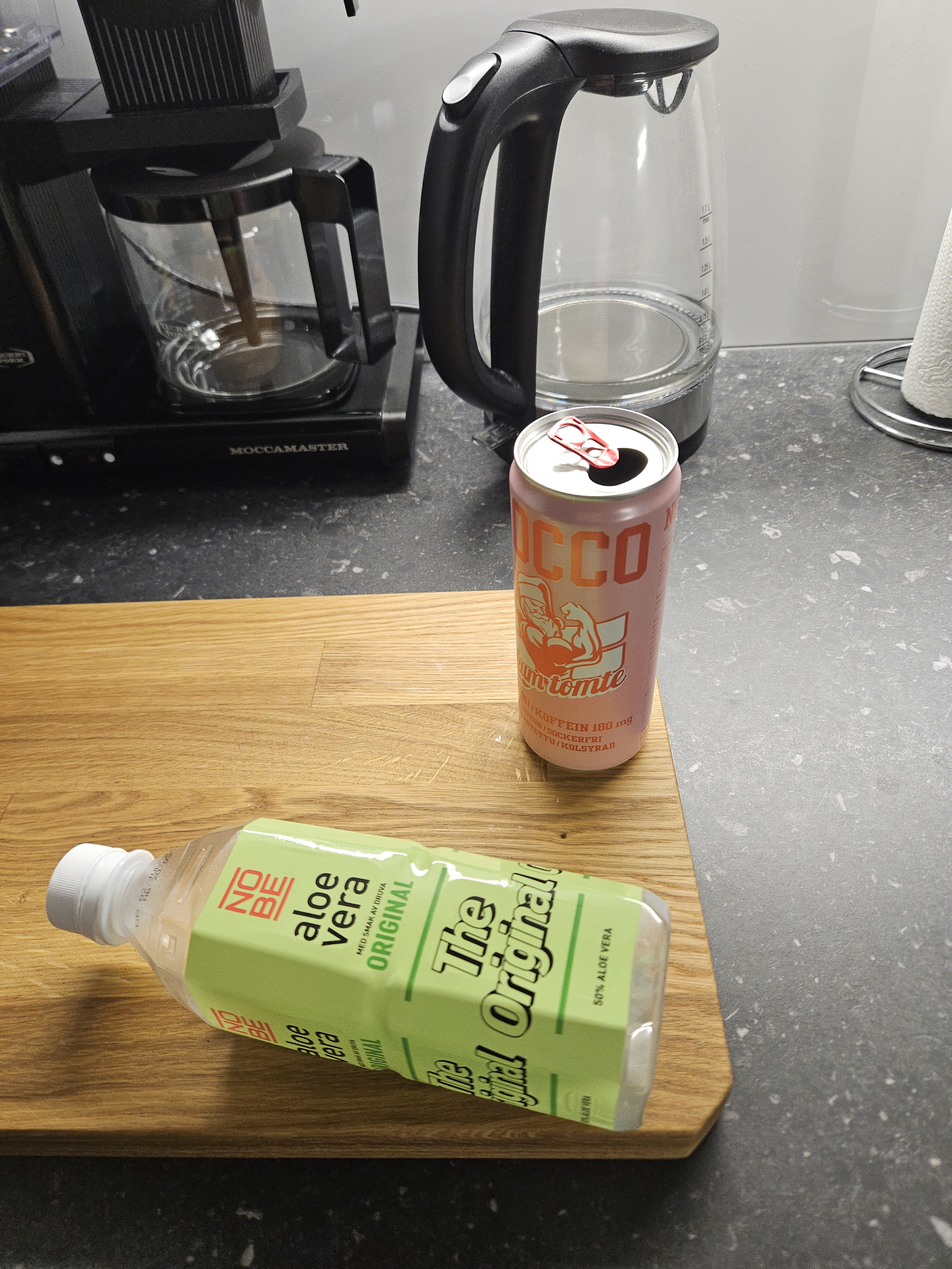Pantburk: (506, 401, 684, 773)
